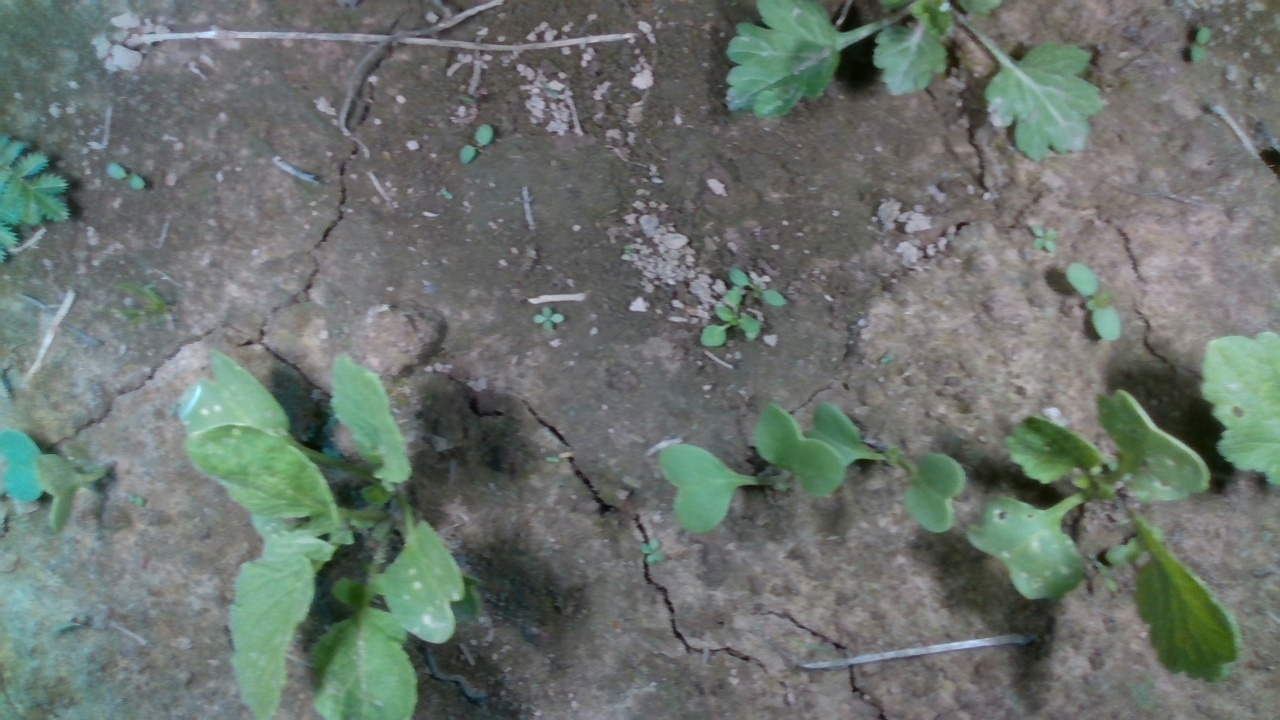weed: (1064, 261, 1123, 342), (458, 117, 492, 167), (634, 533, 677, 565), (102, 161, 145, 191), (529, 302, 569, 334), (1029, 223, 1061, 257)
